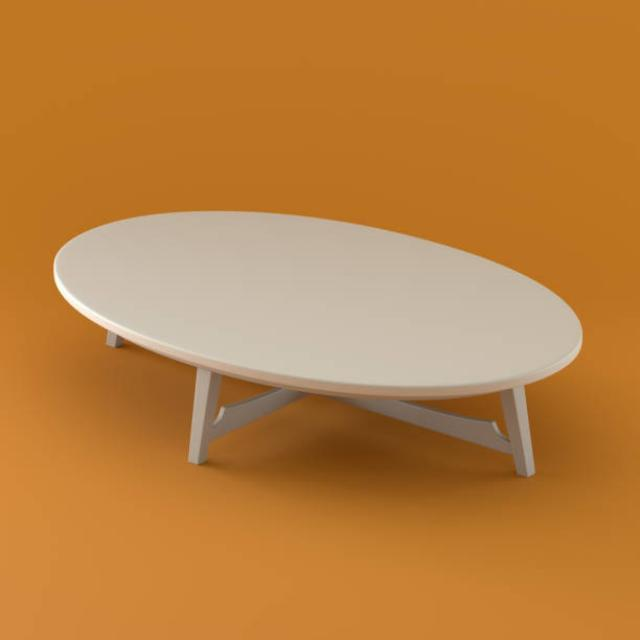table: (52, 208, 584, 477)
